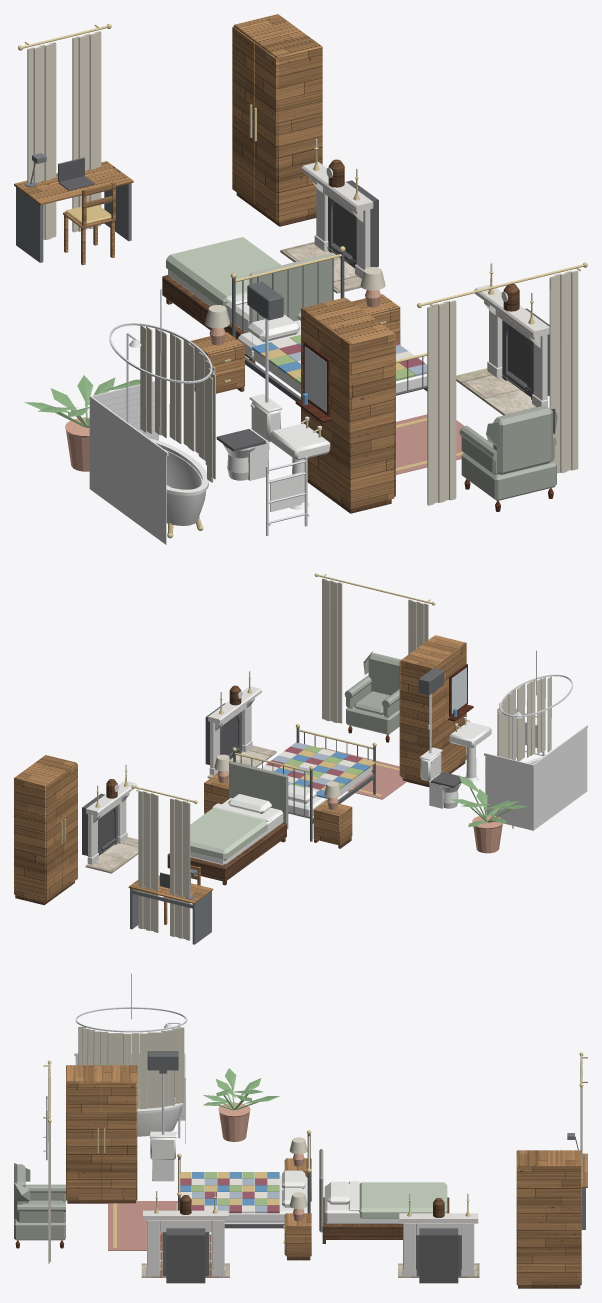
Rendered from furn_1_l.glb.
The picture shows the model from 3 angles, top to bottom: view 1: azimuth 30°, elevation 25°; view 2: azimuth 150°, elevation 25°; view 3: azimuth 270°, elevation 25°; orthographic projection. The views are drawn at different scales.
Parts seen in each view (by area): view 1: furn_1_l_wood, furn_1_l_curtain, furn_1_l_fabric_g, furn_1_l_tile_w, furn_1_l_porcelain, furn_1_l_mantel, furn_1_l_dark, furn_1_l_bed_g, furn_1_l_bed_w, furn_1_l_iron, furn_1_l_stone_c, furn_1_l_dkwood (+9 smaller); view 2: furn_1_l_wood, furn_1_l_curtain, furn_1_l_tile_w, furn_1_l_fabric_g, furn_1_l_mantel, furn_1_l_bed_g, furn_1_l_bed_w, furn_1_l_dkwood, furn_1_l_porcelain, furn_1_l_dark, furn_1_l_iron, furn_1_l_stone_c (+13 smaller); view 3: furn_1_l_wood, furn_1_l_curtain, furn_1_l_mantel, furn_1_l_dark, furn_1_l_fabric_g, furn_1_l_bed_w, furn_1_l_bed_g, furn_1_l_dkwood, furn_1_l_porcelain, furn_1_l_iron, furn_1_l_rug, furn_1_l_pot (+10 smaller).
Part boxes in pixels (<box>): furn_1_l_wood: <box>14,14,400,509</box>; furn_1_l_curtain: <box>27,31,578,505</box>; furn_1_l_fabric_g: <box>249,253,557,500</box>; furn_1_l_tile_w: <box>89,380,168,544</box>; furn_1_l_porcelain: <box>149,350,330,525</box>; furn_1_l_mantel: <box>301,162,549,407</box>; furn_1_l_dark: <box>58,157,549,451</box>; furn_1_l_bed_g: <box>166,237,281,306</box>; furn_1_l_bed_w: <box>168,269,427,511</box>; furn_1_l_iron: <box>232,196,533,401</box>; furn_1_l_stone_c: <box>280,241,536,415</box>; furn_1_l_dkwood: <box>162,159,519,513</box>; furn_1_l_wood: <box>14,635,466,924</box>; furn_1_l_curtain: <box>138,578,551,940</box>; furn_1_l_tile_w: <box>484,725,587,830</box>; furn_1_l_fabric_g: <box>229,651,400,828</box>; furn_1_l_mantel: <box>86,686,261,864</box>; furn_1_l_bed_g: <box>190,808,267,860</box>; furn_1_l_bed_w: <box>190,722,537,865</box>; furn_1_l_dkwood: <box>15,685,465,905</box>; furn_1_l_porcelain: <box>419,717,544,808</box>; furn_1_l_dark: <box>82,703,465,888</box>; furn_1_l_iron: <box>98,668,444,852</box>; furn_1_l_stone_c: <box>85,745,276,873</box>; furn_1_l_wood: <box>66,1065,587,1285</box>; furn_1_l_curtain: <box>48,1026,582,1263</box>; furn_1_l_mantel: <box>143,1210,478,1276</box>; furn_1_l_dark: <box>166,1228,458,1283</box>; furn_1_l_fabric_g: <box>14,1148,323,1240</box>; furn_1_l_bed_w: <box>48,1109,402,1223</box>; furn_1_l_bed_g: <box>359,1182,447,1218</box>; furn_1_l_dkwood: <box>67,1195,580,1288</box>; furn_1_l_porcelain: <box>137,1089,184,1181</box>; furn_1_l_iron: <box>147,1051,461,1276</box>; furn_1_l_rug: <box>108,1201,177,1250</box>; furn_1_l_pot: <box>218,1102,304,1221</box>.
Size of the model in its own units: 6.24 by 2.8 by 8.85.
30 materials, 5 textured.
